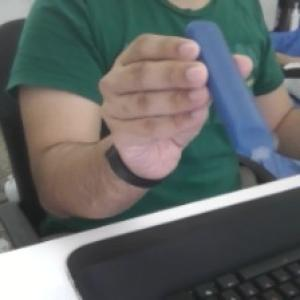Diamond-E-Ciggirate: (184, 16, 284, 166)
